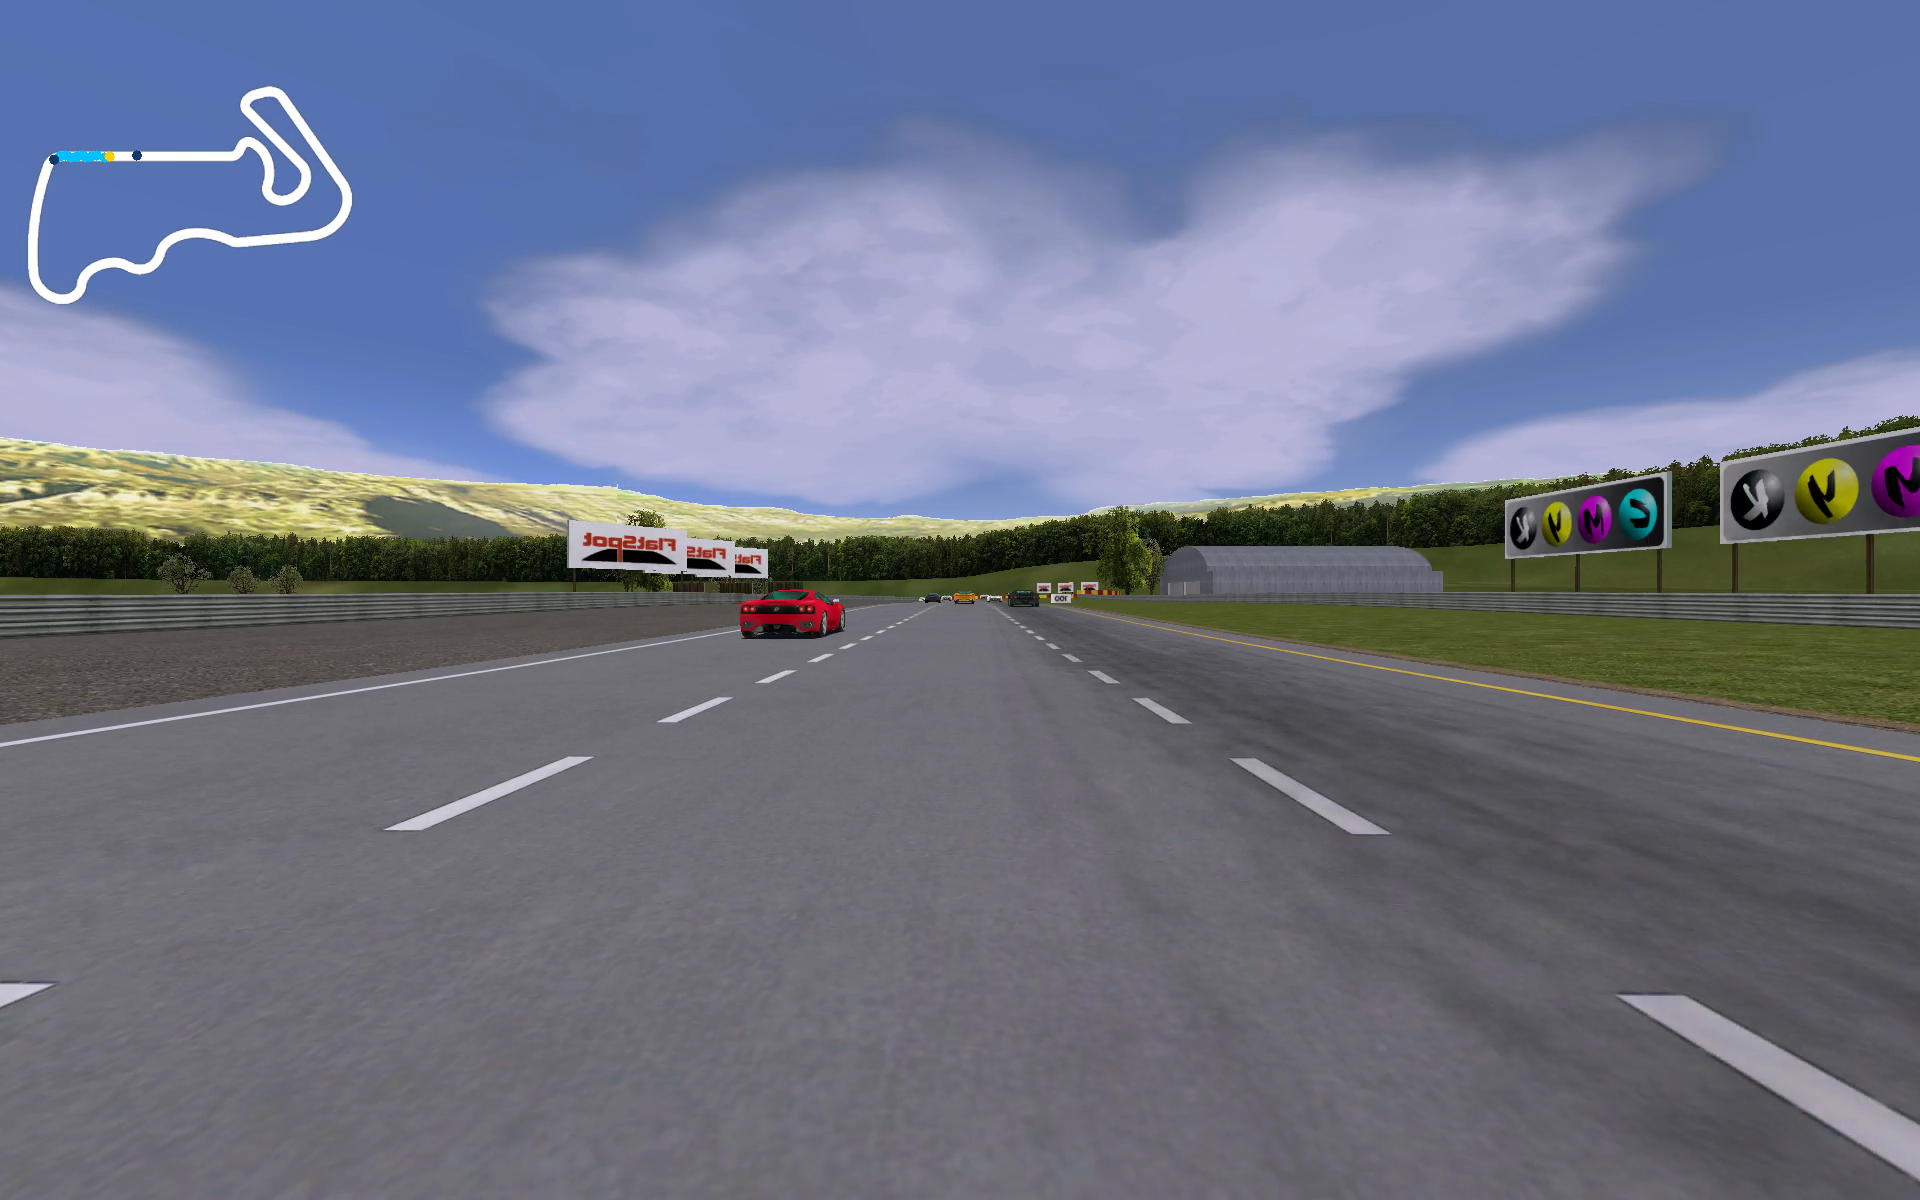car: (740, 586, 849, 644), (1005, 586, 1039, 610), (950, 588, 980, 606)
